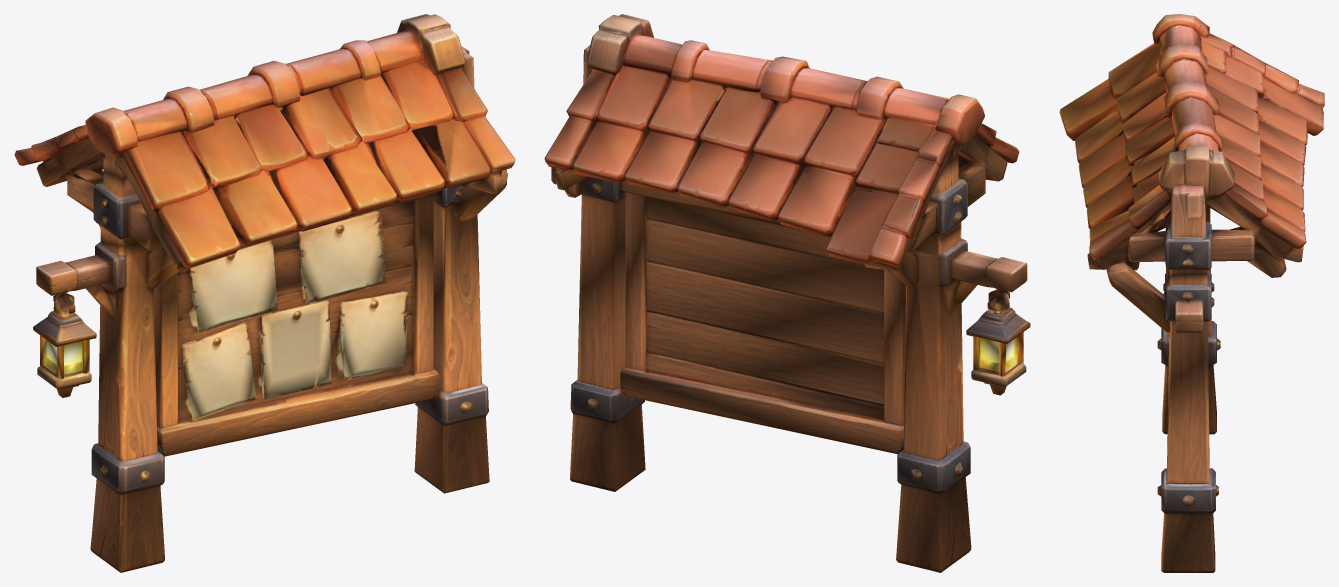
3 renders of one model, left to right at view 1: azimuth 30°, elevation 25°; view 2: azimuth 150°, elevation 25°; view 3: azimuth 270°, elevation 25°, orthographic. The views are drawn at different scales.
Parts seen in each view (by area): view 1: tripo_node_da19ddf9-8557-4673-8a1f-f59fe4b4a7c4; view 2: tripo_node_da19ddf9-8557-4673-8a1f-f59fe4b4a7c4; view 3: tripo_node_da19ddf9-8557-4673-8a1f-f59fe4b4a7c4.
Boxes of the visible parts, <box> form: tripo_node_da19ddf9-8557-4673-8a1f-f59fe4b4a7c4: <box>14,14,515,572</box>; tripo_node_da19ddf9-8557-4673-8a1f-f59fe4b4a7c4: <box>544,14,1030,572</box>; tripo_node_da19ddf9-8557-4673-8a1f-f59fe4b4a7c4: <box>1059,14,1324,572</box>.
Size of the model in its own units: 0.9769 by 0.9387 by 0.5563.
1 material, 1 textured.
